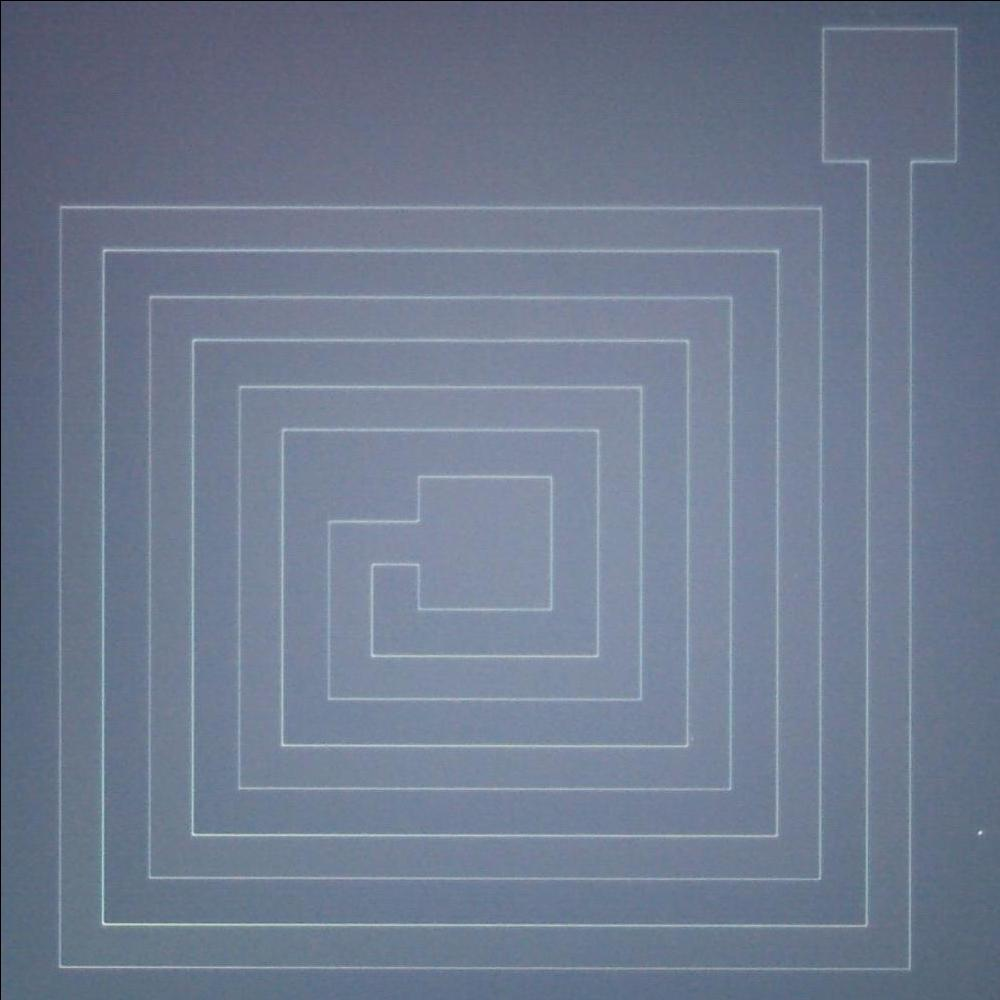dot: (963, 818, 990, 850)
